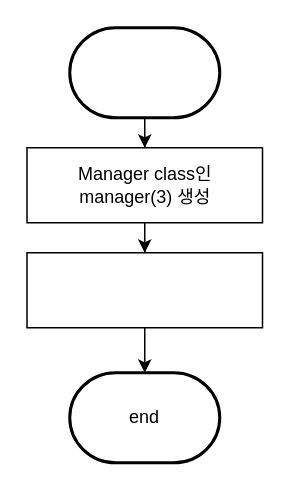
The diagram is 288 pixels wide and 489 high, and some of its shapes have lost their labels. Each missing label, with the box of its shape:
Manager class의 run(command.txt) 함수 실행: (26, 251, 262, 328)
start: (68, 26, 220, 118)
